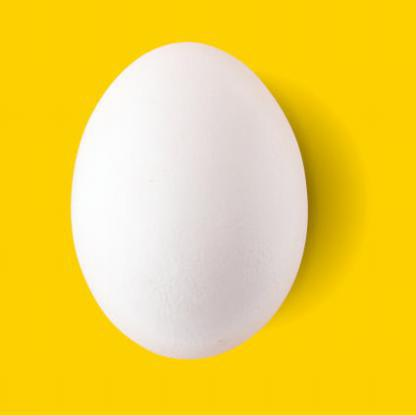egg: (76, 38, 306, 366)
